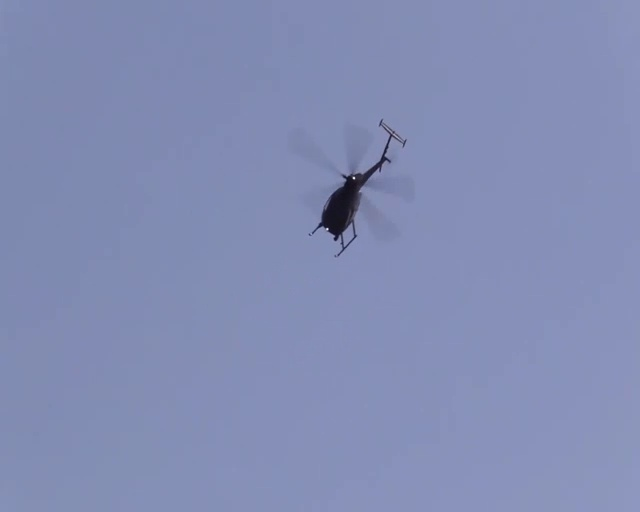HELICOPTER: (286, 117, 412, 257)
